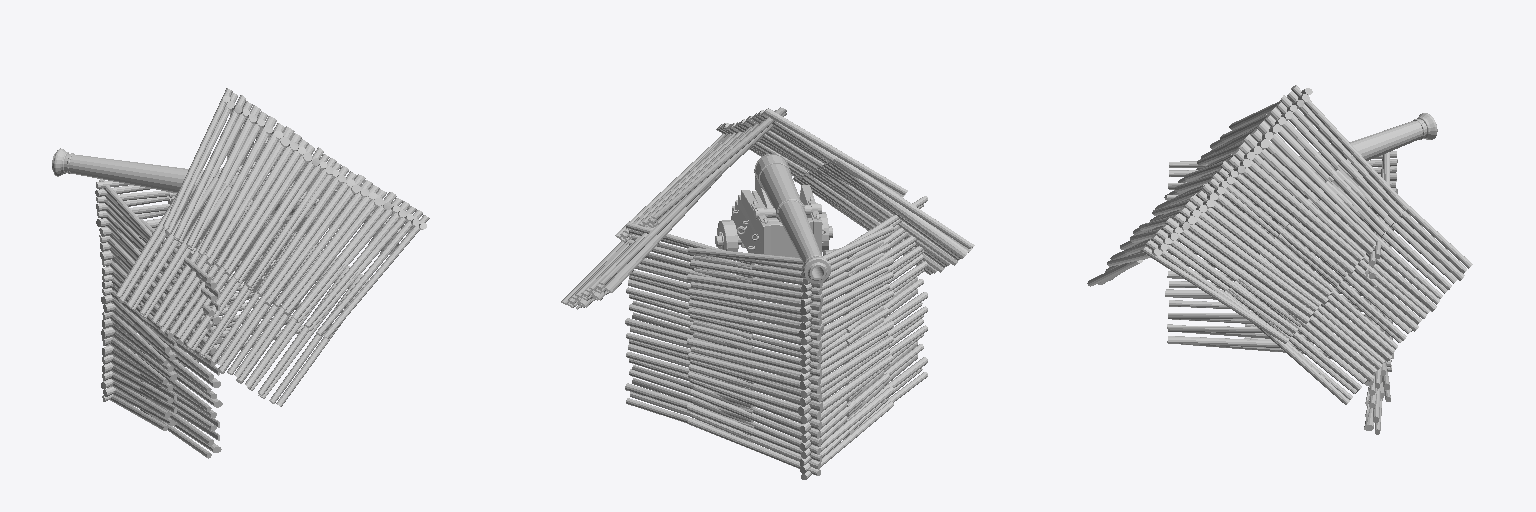
Rendered from cannon.obj.
3 renders of one model, left to right at view 1: azimuth 30°, elevation 25°; view 2: azimuth 150°, elevation 25°; view 3: azimuth 270°, elevation 25°, orthographic.
Parts seen in each view (by area): view 1: barn.025_Cube.003, barn.025_Cube.002, Cannon.001, Cannon; view 2: barn.025_Cube.002, barn.025_Cube.003, Cannon, Cannon.001; view 3: barn.025_Cube.003, barn.025_Cube.002, Cannon.001.
Part boxes in pixels (x1,y1,x2,y2): barn.025_Cube.003: (116,88,429,406); barn.025_Cube.002: (95,162,303,458); Cannon.001: (52,148,318,215); Cannon: (171,172,320,292); barn.025_Cube.002: (625,196,927,479); barn.025_Cube.003: (561,107,974,309); Cannon: (715,177,836,282); Cannon.001: (754,154,830,283); barn.025_Cube.003: (1087,85,1472,404); barn.025_Cube.002: (1165,151,1397,434); Cannon.001: (1217,113,1437,212).
Size of the model in its own units: 4.45 by 3.96 by 4.3.